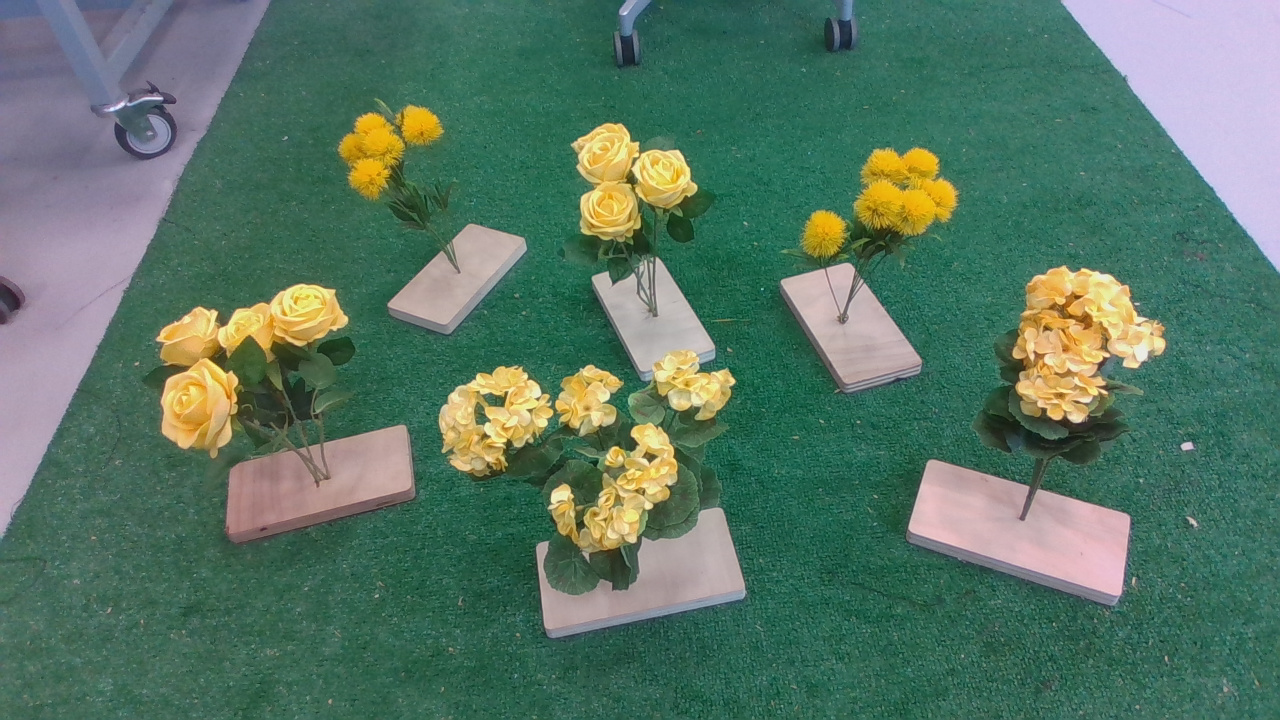dandelion: (790, 145, 969, 270), (341, 99, 470, 238)
geranium: (432, 354, 743, 582), (973, 267, 1180, 472)
rose: (143, 279, 372, 471), (563, 115, 709, 286)
